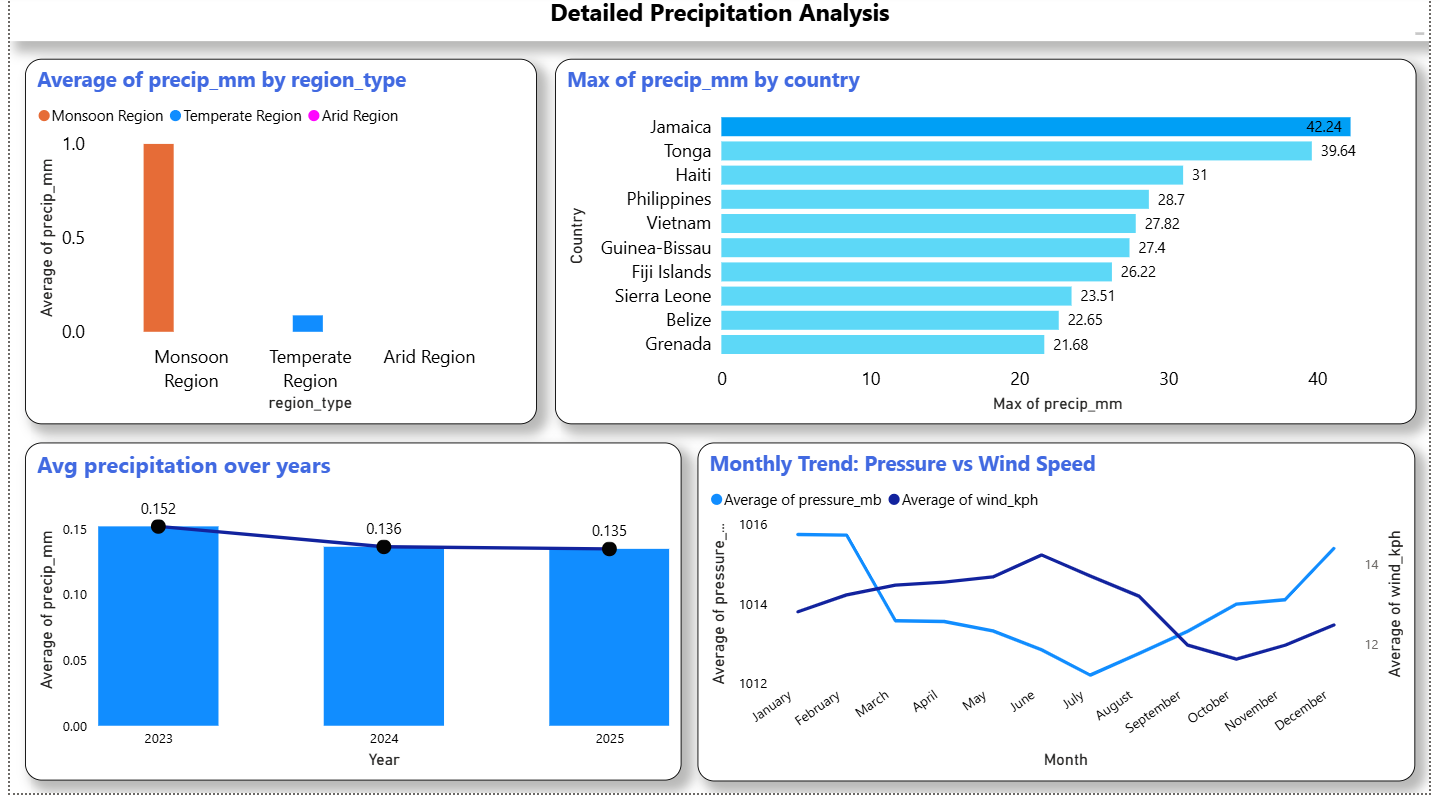

The page's visual inventory and layout, read from the dashboard file:
{"tool":"powerbi","page":{"name":"Precipitation ","canvas":[1280,720],"ordinal":3},"visuals":[{"type":"textbox","title":"Detailed Precipitation Analysis","box":[0,0,1280,41.3],"z":0},{"type":"clusteredColumnChart","title":"Average of precip_mm by region_type ","fields":{"Category":["precipitation_analysis.region_type"],"Y":["Avg(precipitation_analysis.precip_mm)"],"Series":["precipitation_analysis.region_type"]},"box":[13.3,57.3,461.3,329.3],"z":1000},{"type":"barChart","fields":{"Category":["in.country"],"Y":["Max(in.precip_mm)"]},"box":[490.9,57.1,776.6,329.9],"z":2000},{"type":"lineStackedColumnComboChart","title":"Avg precipitation over years","fields":{"Category":["in.last_updated.Variation.Date Hierarchy.Year"],"Y":["Avg(in.precip_mm)"],"Y2":["Avg(in.precip_mm)"]},"box":[13,404,592,305],"z":3000},{"type":"lineChart","title":"Monthly Trend: Pressure vs Wind Speed","fields":{"Category":["in.last_updated.Variation.Date Hierarchy.Month"],"Y":["Avg(in.pressure_mb)"],"Y2":["Avg(in.wind_kph)"]},"box":[619.9,403.5,647,305.4],"z":4000}]}

Visuals, with their boxes in screenshot pixels (x1, y1, x2, y2), scaled from the page's 1280x720 canvas onto the 1440x800 screenshot:
"Detailed Precipitation Analysis" textbox: 0 0 1439 46
"Average of precip_mm by region_type " clusteredColumnChart: 15 64 534 430
barChart - in.country x Max(in.precip_mm): 552 63 1426 430
"Avg precipitation over years" lineStackedColumnComboChart: 15 449 681 788
"Monthly Trend: Pressure vs Wind Speed" lineChart: 697 448 1425 788
